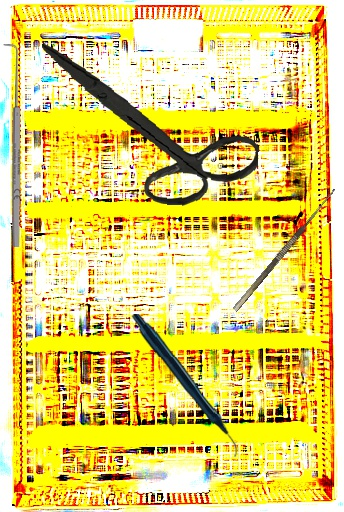Handpiece: (130, 312, 240, 459)
Hook Surgical: (226, 182, 338, 313), (3, 44, 23, 247)
Iris Scissors: (31, 42, 266, 211)
